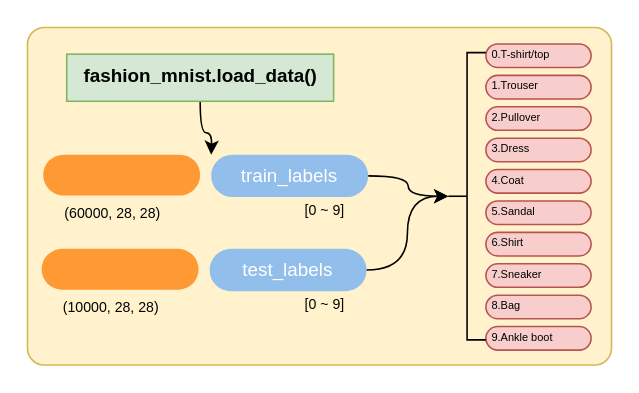
The diagram is 639 pixels wide and 393 high, and some of its shapes have lost their labels. Each missing label, with the centre of its shape:
"test_images" belongs at point 119,268.
"train_images" belongs at point 120,174.
